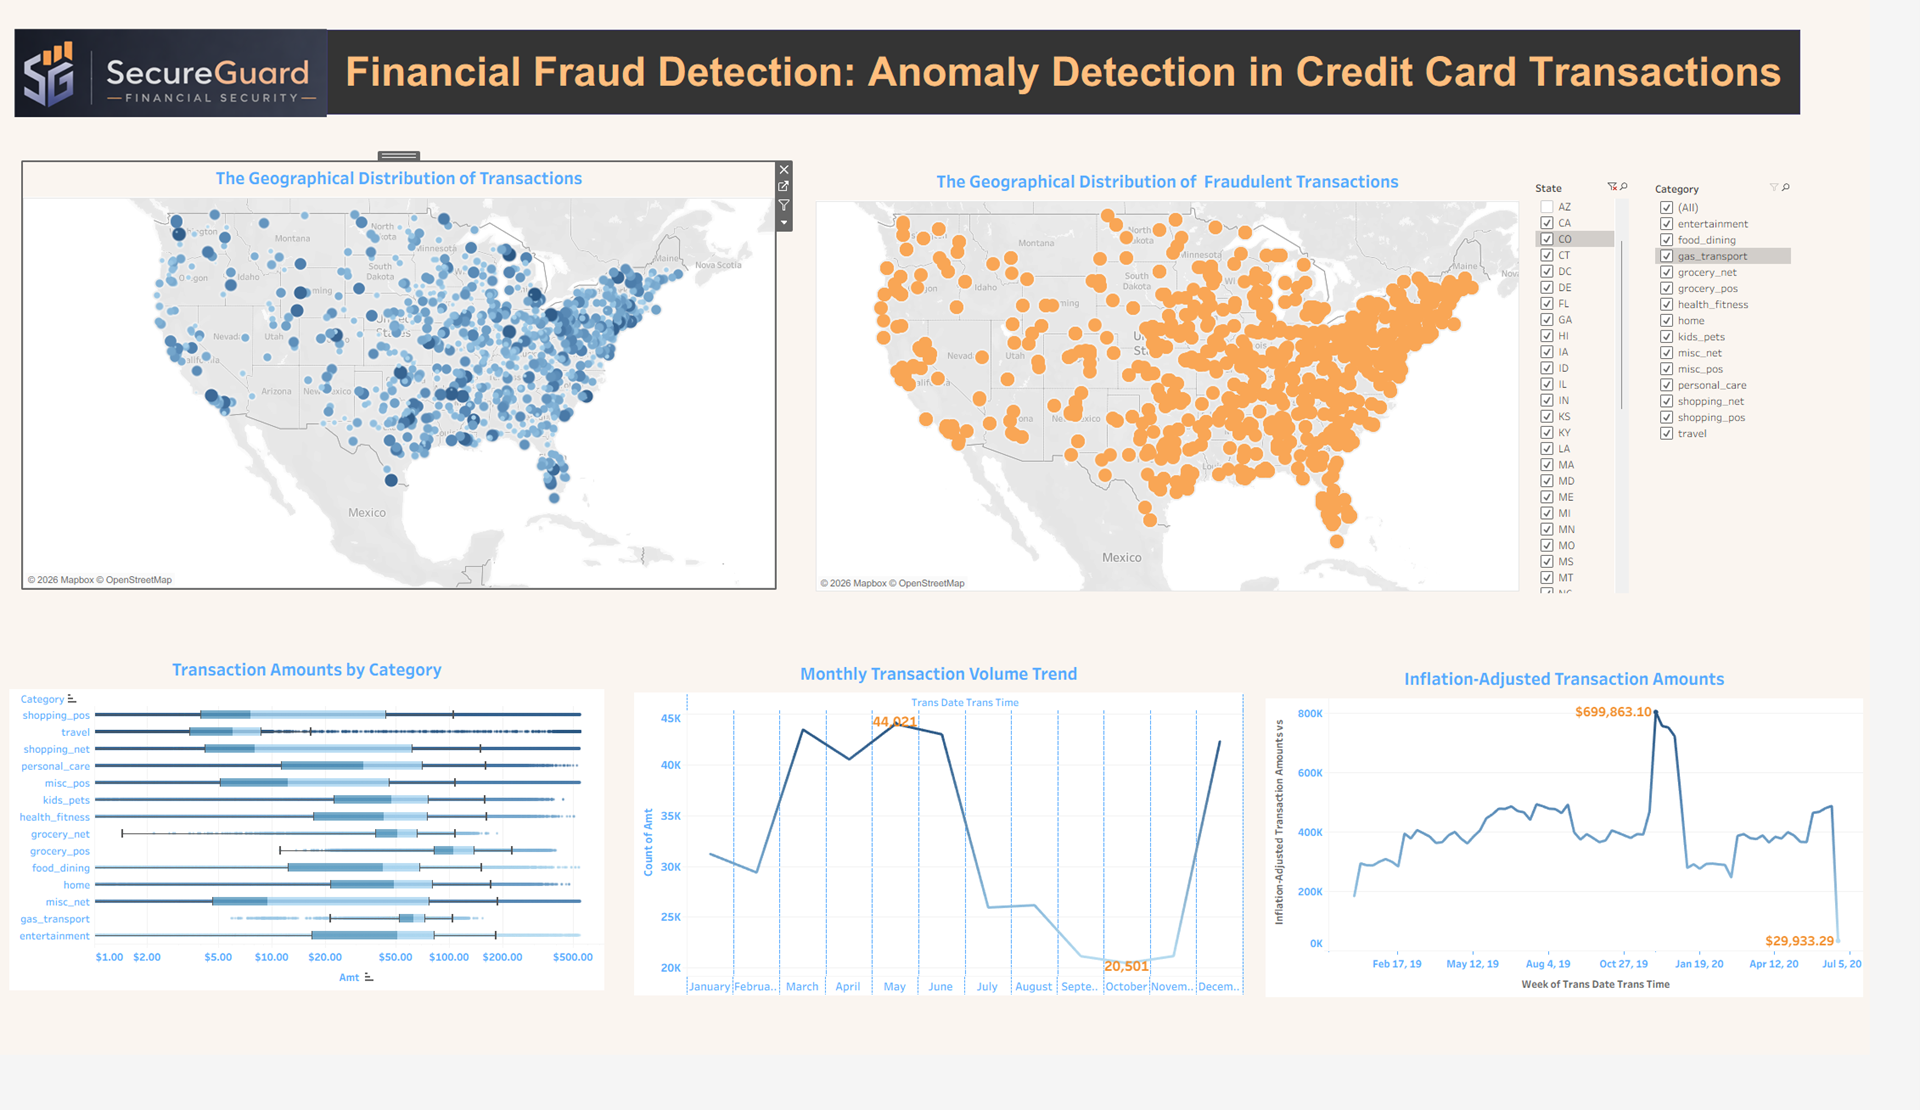

The dashboard page shown, as its layout file describes it:
{"tool":"tableau","page":{"name":"Financial Fraud Detection","canvas":[2220,1260],"ordinal":0},"visuals":[{"type":"image","param":"C:/Users/Nehir/Desktop/Capstone/Logo.png","box":[34,22,368,162]},{"type":"worksheet","title":"The Geog. Dist. of Transactions","mark":"Automatic","rows":["lat"],"cols":["long"],"box":[44,208,886,502]},{"type":"worksheet","title":"The Geog. Dist. of Fraud. Transactions","mark":"Automatic","rows":["lat"],"cols":["long"],"box":[978,212,829,502]},{"type":"filter","title":"The Geog. Dist. of Transactions","param":"[federated.1a9fb461binnt5145ltcn0asr4e0].[none:state:nk]","box":[1826,230,110,486]},{"type":"filter","title":"Transaction Amounts by Category","param":"[federated.1a9fb461binnt5145ltcn0asr4e0].[none:category:nk]","box":[1967,231,160,309]},{"type":"worksheet","title":"Transaction Amounts by Category","mark":"Circle","rows":["category"],"cols":["amt"],"box":[28,787,701,435]},{"type":"worksheet","title":"The Trend of Monthly Transaction ","mark":"Automatic","rows":["amt"],"cols":["trans_date_trans_time"],"box":[764,792,718,398]},{"type":"worksheet","title":"Inflation-Adjusted Transaction Amounts","mark":"Automatic","rows":["Calculation_1974236681162753"],"cols":["trans_date_trans_time"],"box":[1508,798,704,394]}]}

Visuals, with their boxes in screenshot pixels (x1, y1, x2, y2), scaled from the page's 2220x1260 canvas onto the 1920x1110 screenshot:
image: <box>29,19,348,162</box>
"The Geog. Dist. of Transactions" worksheet: <box>38,183,804,625</box>
"The Geog. Dist. of Fraud. Transactions" worksheet: <box>846,187,1563,629</box>
"The Geog. Dist. of Transactions" filter: <box>1579,203,1674,631</box>
"Transaction Amounts by Category" filter: <box>1701,204,1840,476</box>
"Transaction Amounts by Category" worksheet (Circle marks): <box>24,693,630,1077</box>
"The Trend of Monthly Transaction " worksheet: <box>661,698,1282,1048</box>
"Inflation-Adjusted Transaction Amounts" worksheet: <box>1304,703,1913,1050</box>
